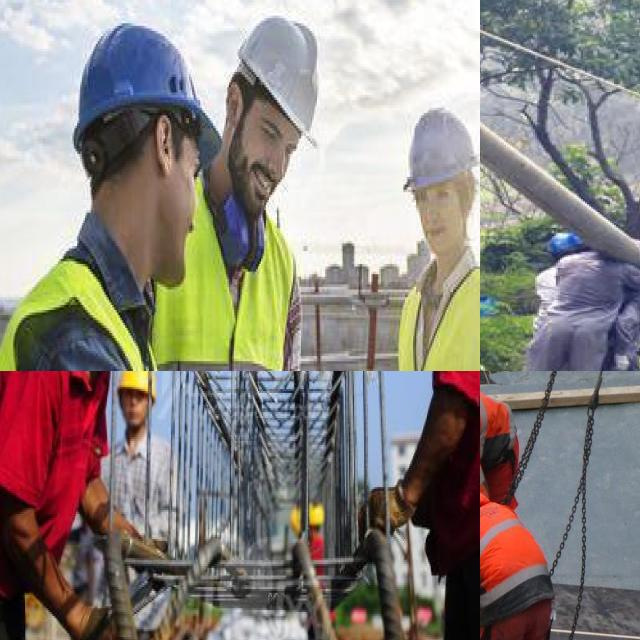No_Ear-Protection: (152, 111, 176, 179), (225, 72, 244, 137)
face_nomask: (141, 116, 207, 292), (233, 88, 294, 220), (415, 177, 461, 251)
head_helmet: (70, 26, 220, 141), (240, 5, 324, 141), (401, 107, 480, 179), (535, 222, 589, 262), (110, 371, 158, 406)
person: (22, 31, 195, 371), (184, 5, 333, 371), (385, 110, 480, 371), (532, 231, 622, 371), (480, 475, 555, 640), (480, 389, 516, 510), (610, 248, 640, 371)
vest: (184, 182, 293, 371), (0, 258, 158, 371), (480, 501, 548, 636), (403, 269, 480, 371), (480, 389, 520, 486)
